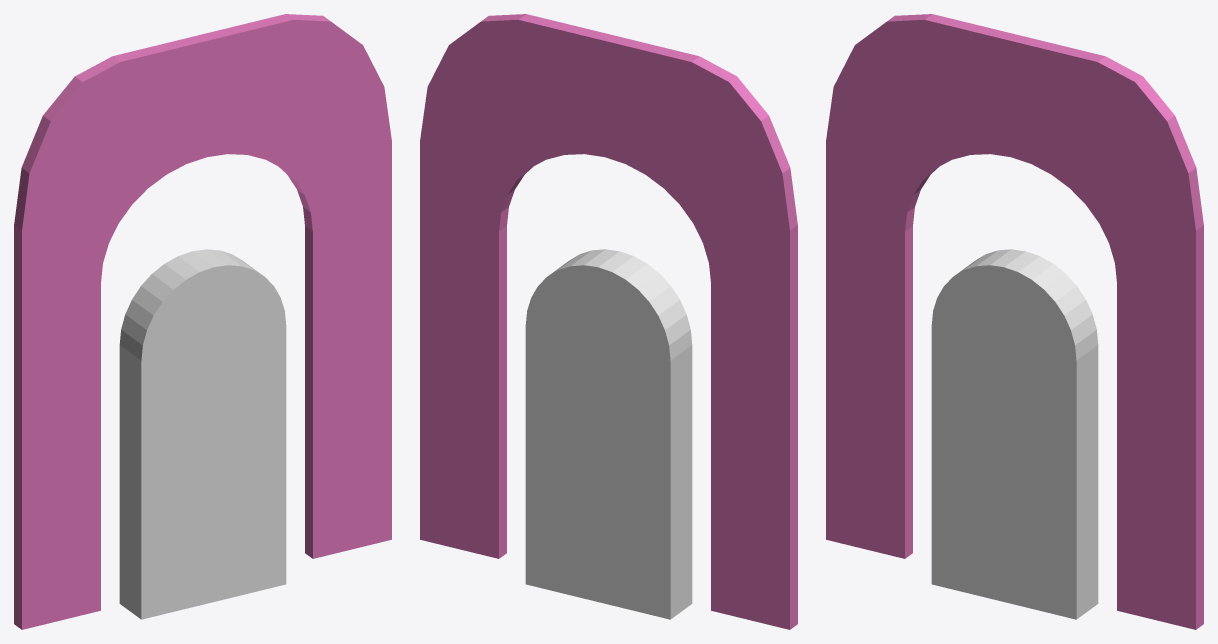
The model's file is arch-test-pre.glb.
3 views of the same model, side by side, from view 1: azimuth 30°, elevation 25°; view 2: azimuth 150°, elevation 25°; view 3: azimuth 330°, elevation 25° (orthographic).
Parts seen in each view (by area): view 1: Cube, Cylinder; view 2: Cube, Cylinder; view 3: Cube, Cylinder.
Boxes of the visible parts, left/top/right/bottom form: Cube: left=14, top=14, right=391, bottom=629; Cylinder: left=119, top=249, right=286, bottom=619; Cube: left=420, top=14, right=797, bottom=629; Cylinder: left=525, top=249, right=692, bottom=619; Cube: left=826, top=14, right=1203, bottom=629; Cylinder: left=931, top=249, right=1098, bottom=619.
Size of the model in its own units: 11.08 by 15.92 by 1.13.
